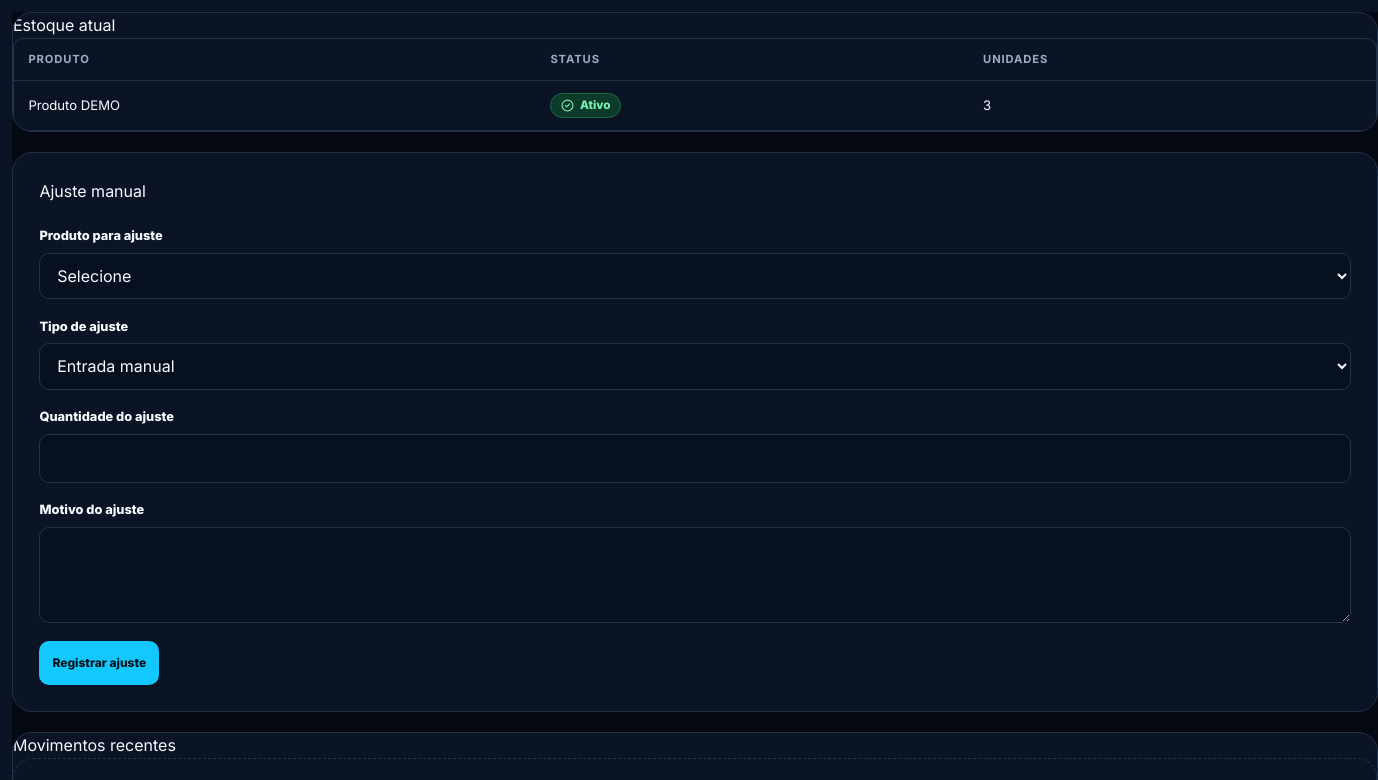
merchant order UI › inventory shows current stock, empty history and records a manual entry through the gateway
The image size is (1378, 780).
Step 1. Select "Produto DEMO" in the dropdown labelled "Produto para ajuste" → (695, 276), box [39,253,1351,299]
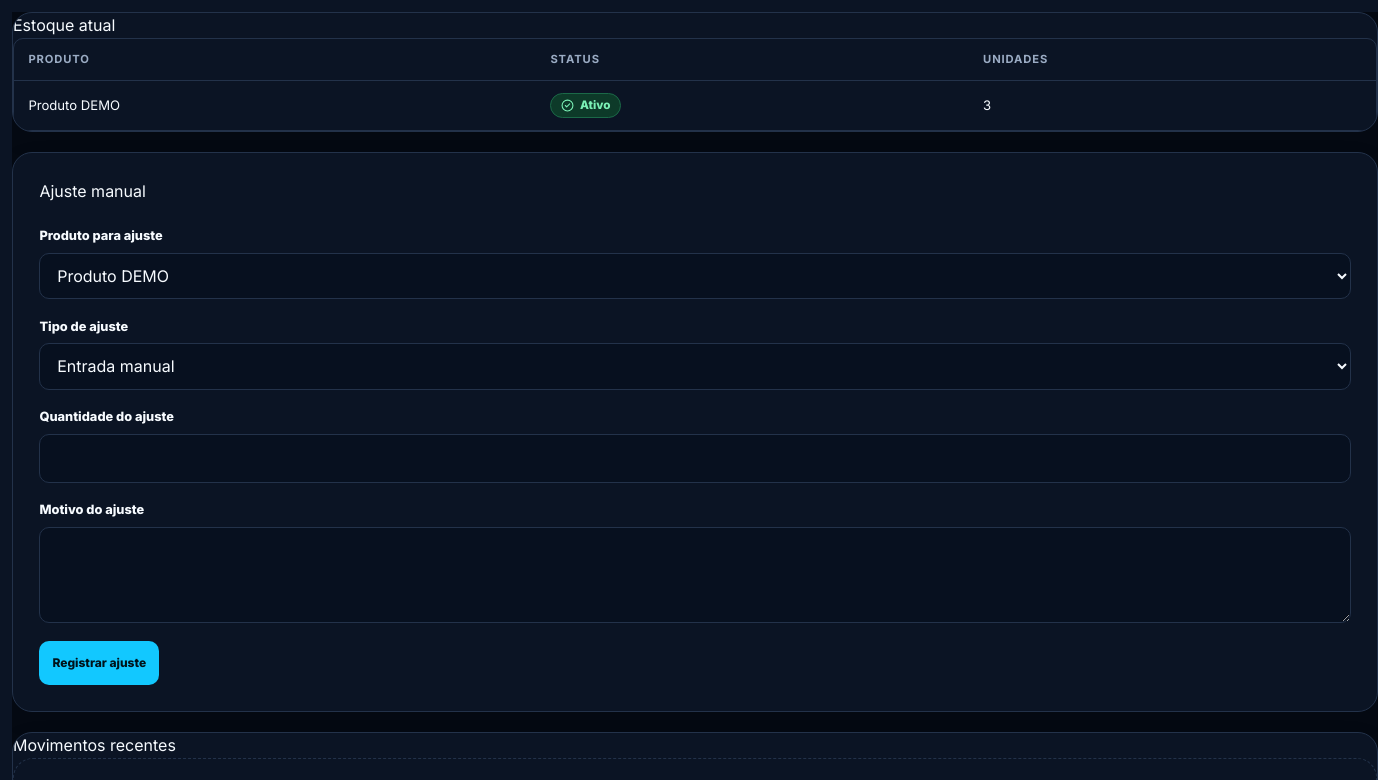
Step 2. Type "2" into the number field labelled "Quantidade do ajuste" → (695, 458), box [39,434,1351,483]
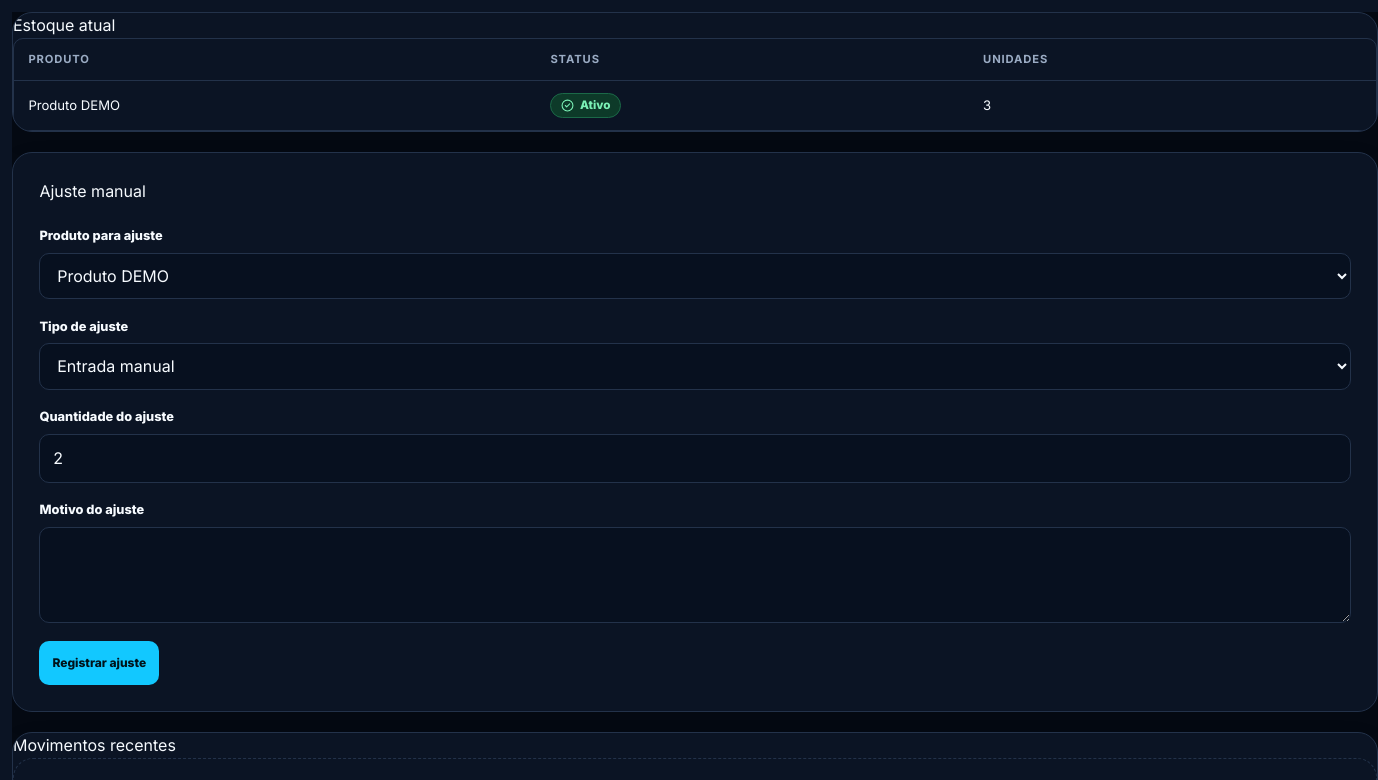
Step 3. Type "Contagem DEMO" into the text box labelled "Motivo do ajuste" → (695, 575), box [39,527,1351,623]
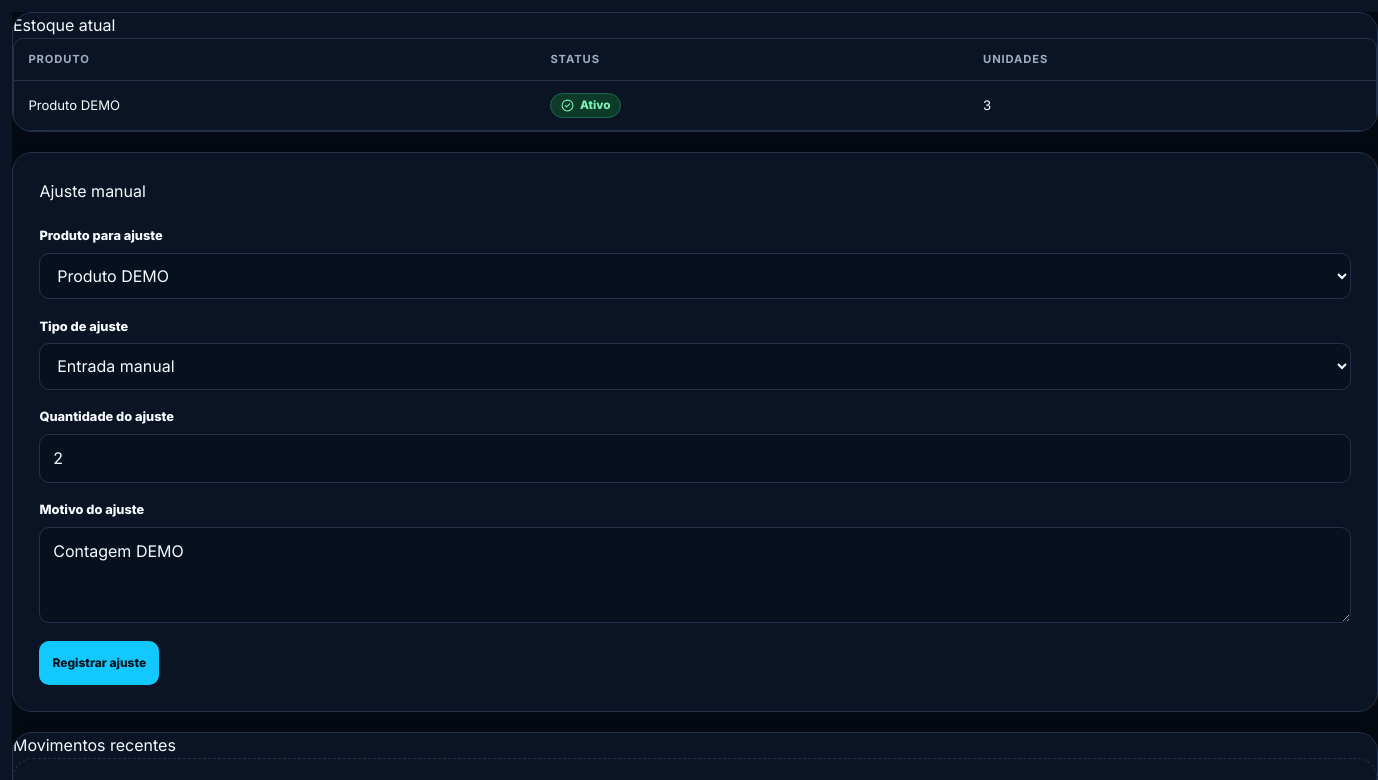
Step 4. Click the button "Registrar ajuste" → (99, 663), box [39,641,159,685]
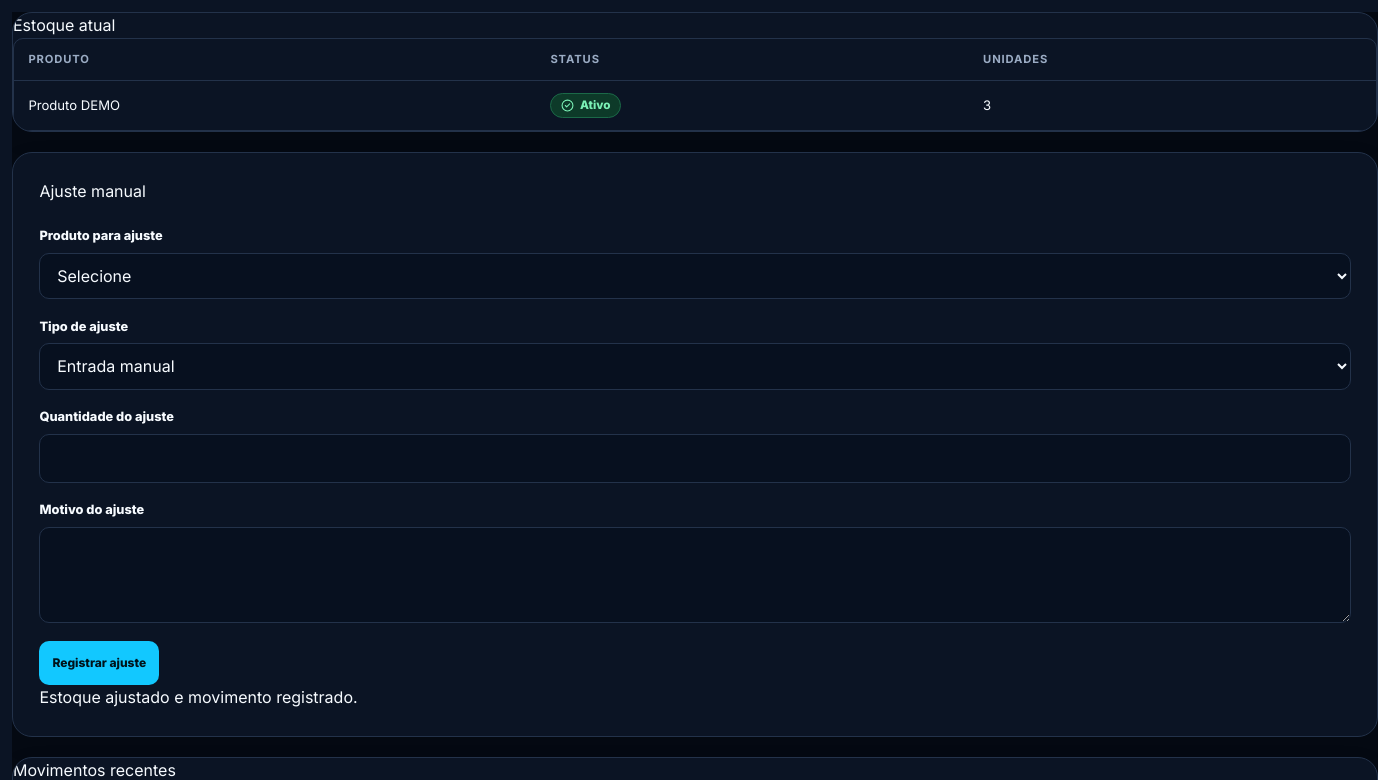
Result: the text "Estoque ajustado e movimento registrado." is shown at [39,687,358,707]
